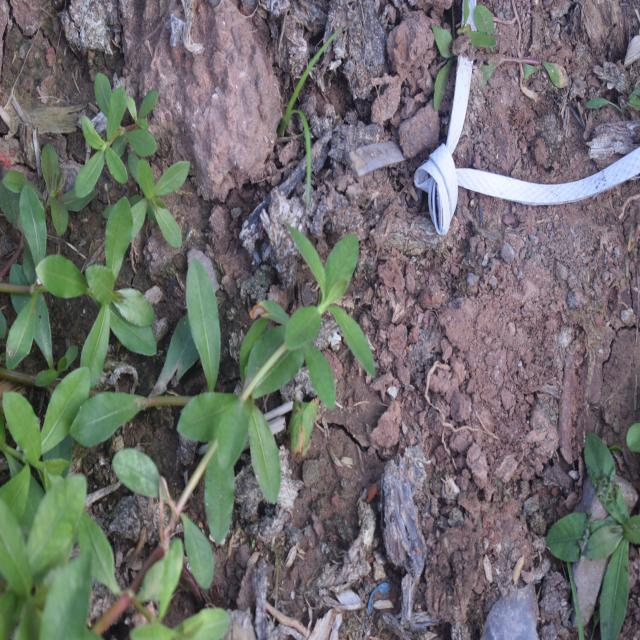Alligatorweed: (172, 206, 370, 500), (10, 195, 165, 363), (63, 83, 190, 262)
